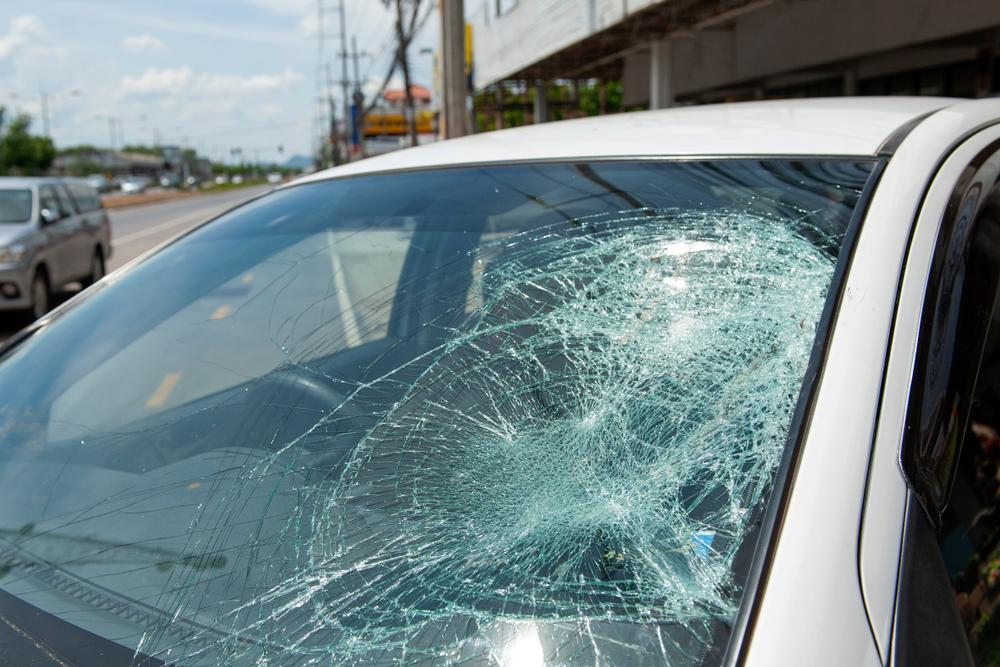glass shatter: (0, 159, 877, 667)
